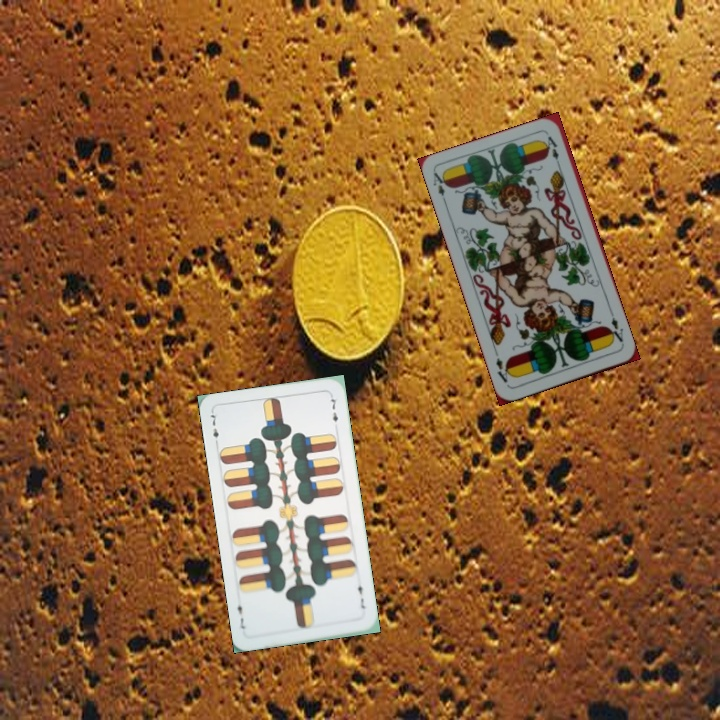E7: (207, 410, 221, 449), (354, 577, 368, 612)
EA: (429, 168, 450, 208), (604, 313, 626, 348)
